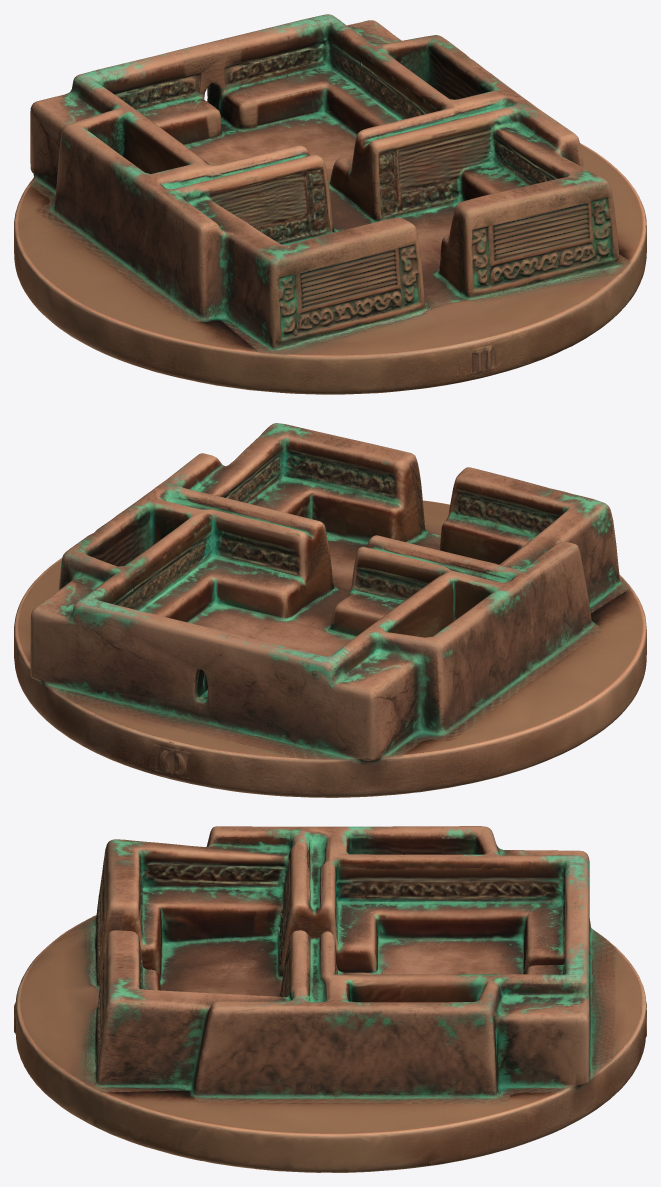
Rendered from chan_chan.glb.
3 views of the same model, one above another, from view 1: azimuth 30°, elevation 25°; view 2: azimuth 150°, elevation 25°; view 3: azimuth 270°, elevation 25° (orthographic).
Parts seen in each view (by area): view 1: Mesh_0; view 2: Mesh_0; view 3: Mesh_0.
Boxes of the visible parts, bbox=[...] form: Mesh_0: bbox=[14, 14, 646, 394]; Mesh_0: bbox=[14, 423, 646, 797]; Mesh_0: bbox=[14, 826, 646, 1172].
Bounding box in the file's own units: 1.9 × 0.4221 × 1.91.
Materials: 1 (1 with a texture image).
